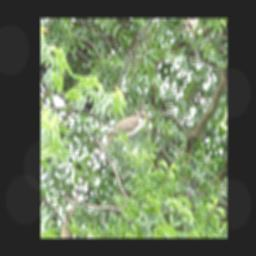Cuckoo: (92, 94, 154, 182)
